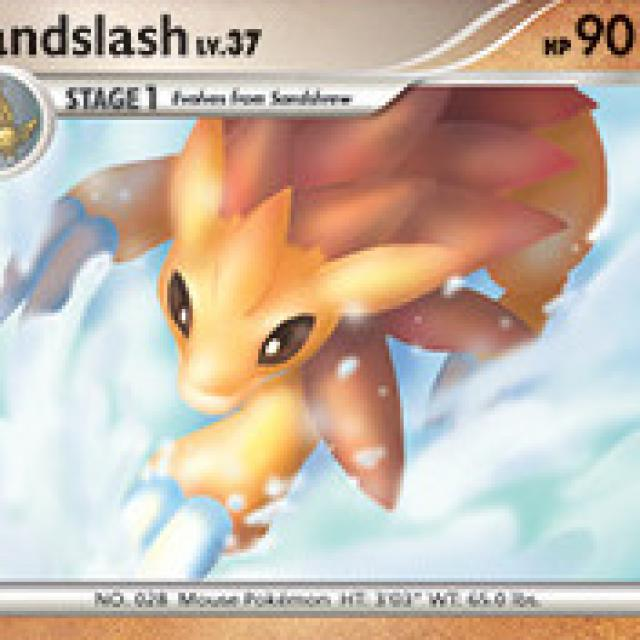Sandslash: (55, 126, 582, 519)
